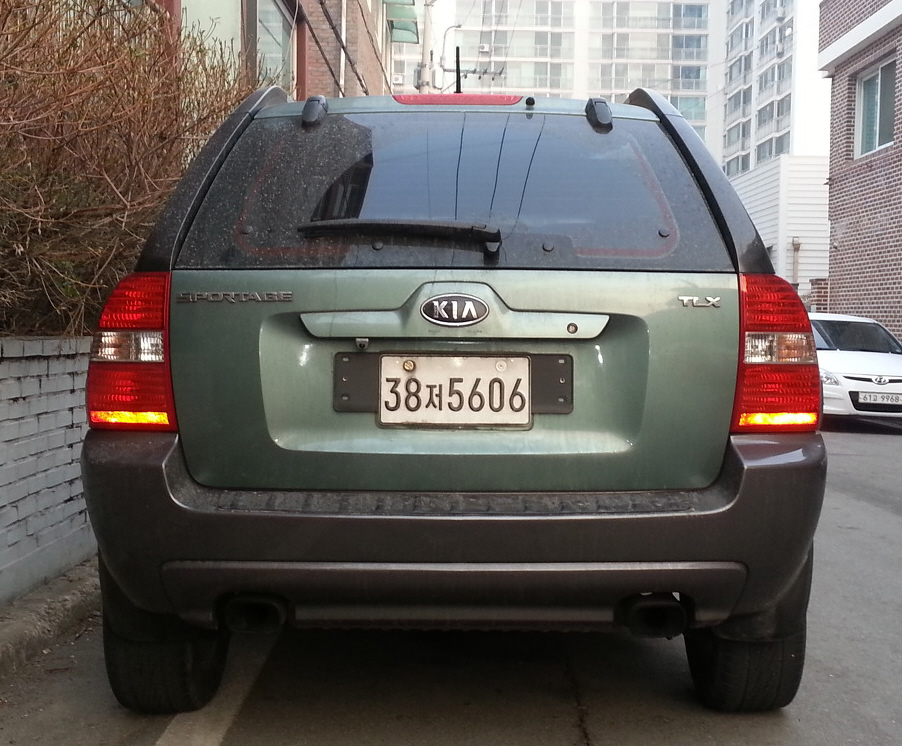plate: (380, 356, 530, 424)
